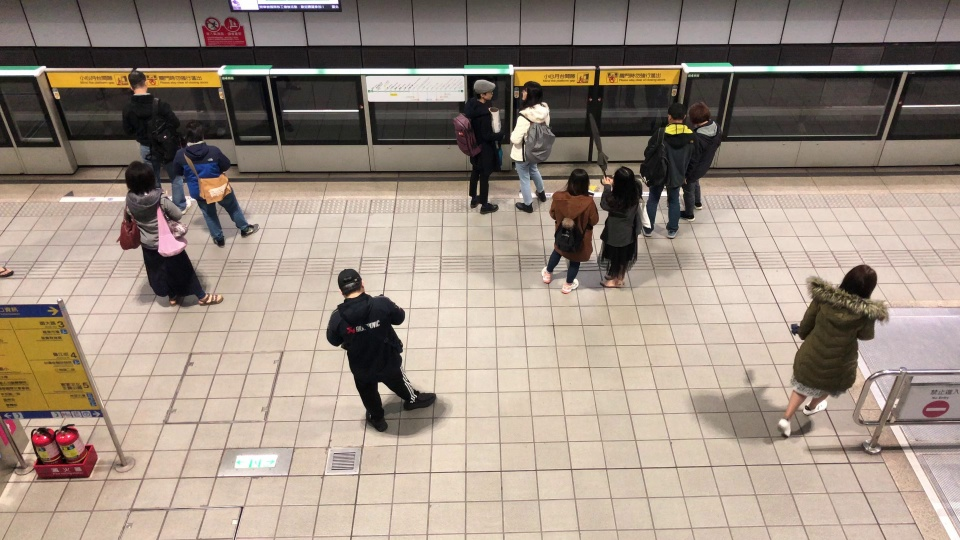person_head: (837, 263, 879, 300), (124, 158, 157, 194), (335, 267, 369, 300), (564, 167, 591, 196), (609, 165, 636, 194), (182, 119, 207, 147), (687, 100, 713, 126), (520, 79, 544, 105), (471, 78, 496, 102), (127, 67, 147, 94), (665, 101, 687, 125)
person_vbox: (777, 262, 890, 439), (324, 268, 437, 433), (116, 158, 223, 307), (168, 119, 260, 248), (587, 106, 651, 288), (119, 67, 192, 217), (639, 100, 699, 238), (541, 168, 599, 294), (451, 79, 504, 216), (510, 79, 556, 213), (679, 99, 723, 221)
